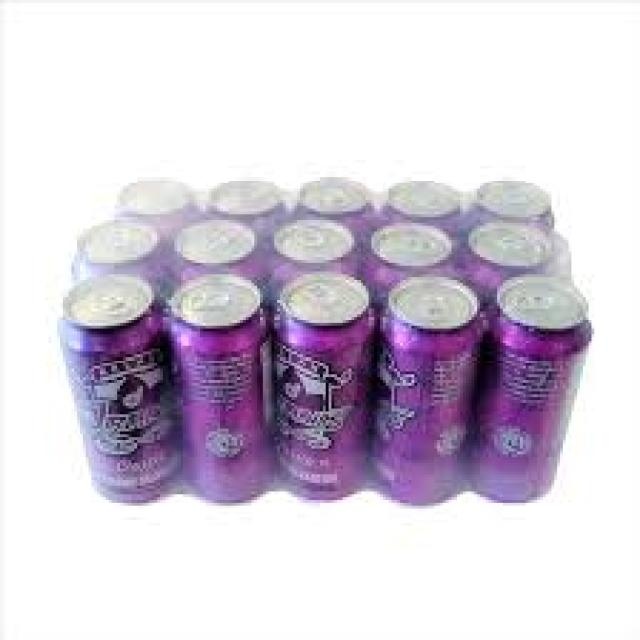Cans: (54, 277, 183, 506), (166, 268, 277, 508), (263, 274, 377, 506), (483, 280, 600, 503), (377, 272, 474, 508)
